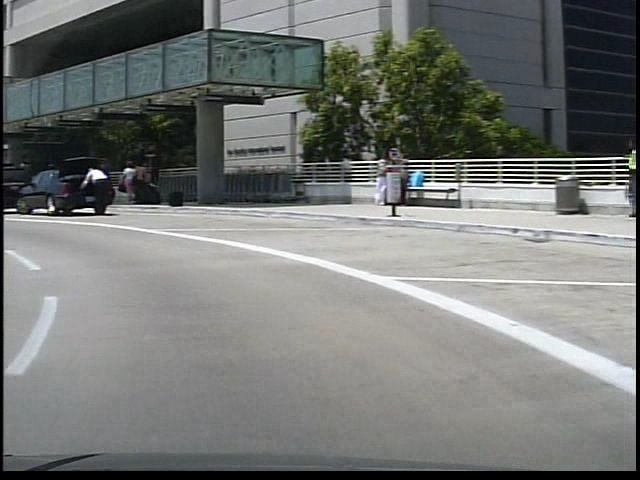person: (75, 166, 109, 220), (129, 158, 145, 208), (116, 162, 128, 203)
